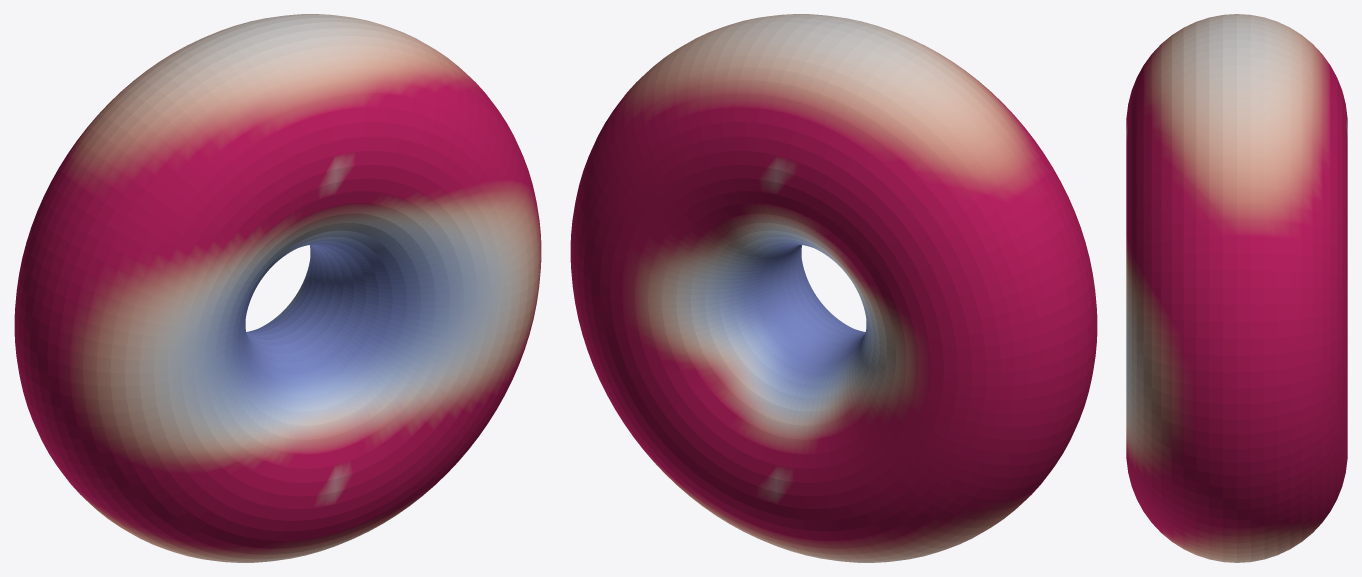
The picture shows the model from 3 angles, left to right: view 1: azimuth 30°, elevation 25°; view 2: azimuth 150°, elevation 25°; view 3: azimuth 270°, elevation 25°; orthographic projection. The views are drawn at different scales.
Visible parts, largest first — view 1: world; view 2: world; view 3: world.
Part boxes in pixels (x1=…): world: x1=14, y1=14, x2=541, y2=562; world: x1=570, y1=14, x2=1097, y2=562; world: x1=1126, y1=14, x2=1347, y2=562.
Bounding box in the file's own units: 23.47 × 23.47 × 9.45.
